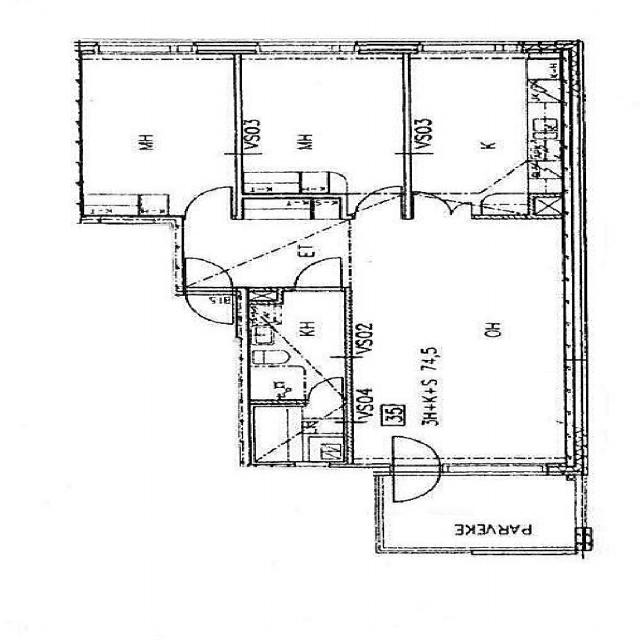door: (392, 462, 439, 506), (392, 431, 439, 475), (185, 286, 232, 323), (185, 255, 232, 292), (294, 256, 340, 292), (186, 186, 232, 220), (354, 186, 400, 220), (412, 191, 450, 220), (306, 377, 340, 407), (451, 203, 472, 220)
